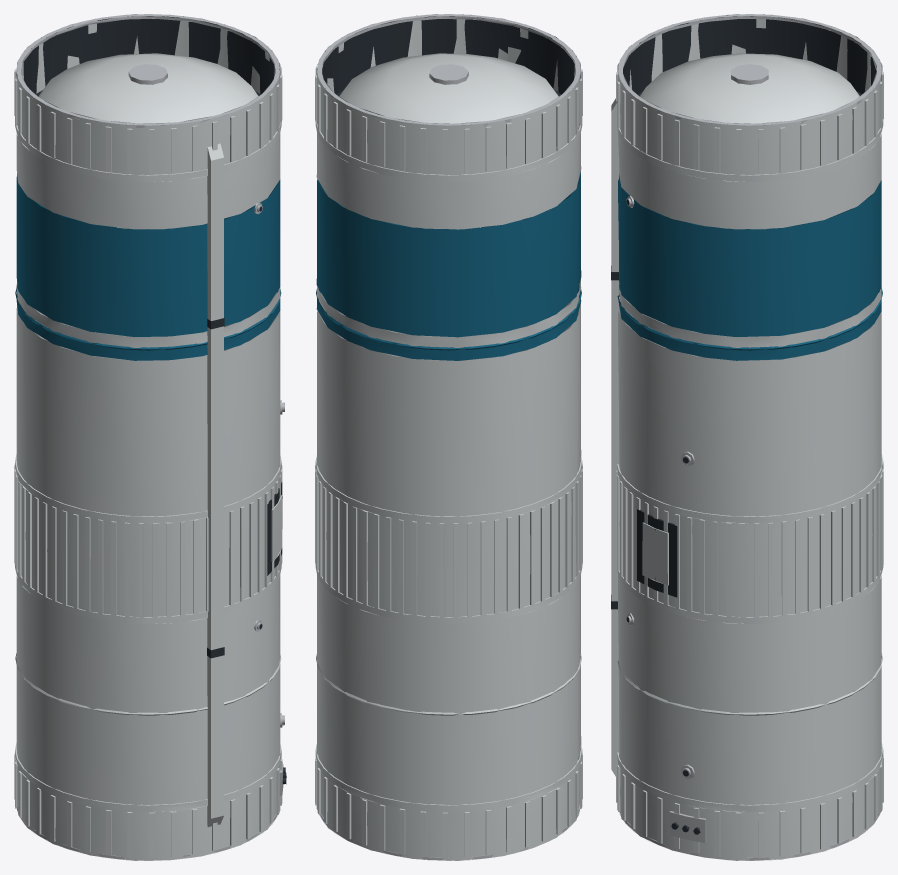
File: tank_s1_xl.glb
3 renders of one model, left to right at view 1: azimuth 30°, elevation 25°; view 2: azimuth 150°, elevation 25°; view 3: azimuth 270°, elevation 25°, orthographic.
Parts seen in each view (by area): view 1: tank_s1_xl_mesh; view 2: tank_s1_xl_mesh; view 3: tank_s1_xl_mesh.
Boxes of the visible parts, <box> form: tank_s1_xl_mesh: <box>14,14,286,860</box>; tank_s1_xl_mesh: <box>315,14,582,860</box>; tank_s1_xl_mesh: <box>611,14,883,860</box>.
Size of the model in its own units: 8.51 by 25.8 by 8.67.
